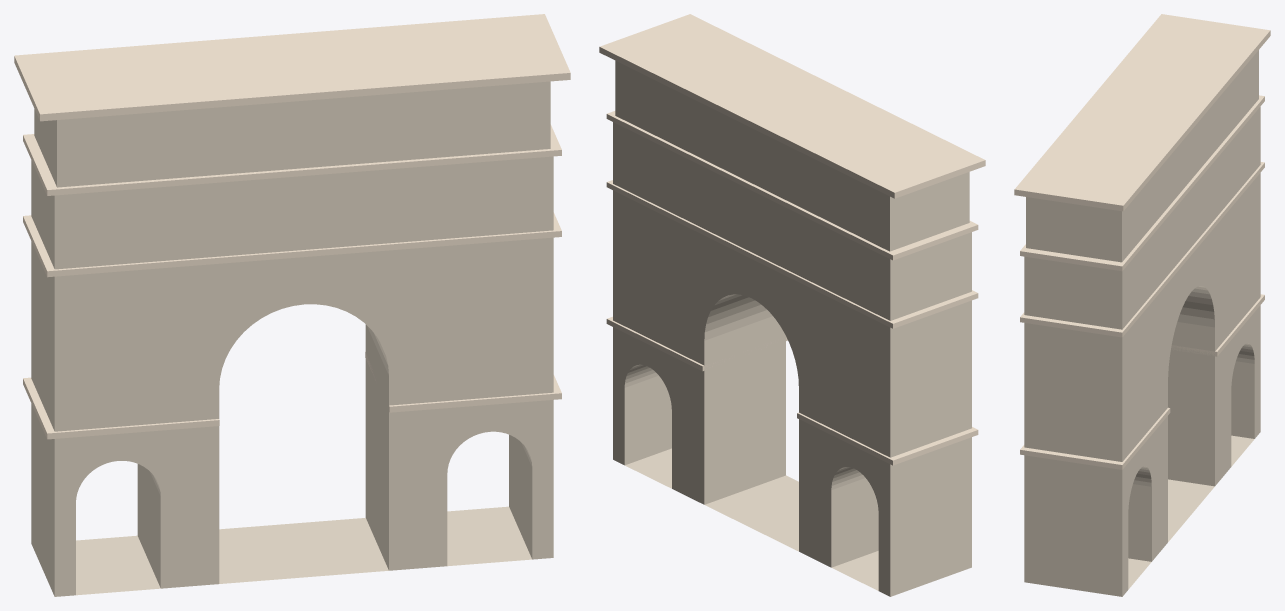
3 views of the same model, side by side, from view 1: azimuth 30°, elevation 25°; view 2: azimuth 150°, elevation 25°; view 3: azimuth 270°, elevation 25° (orthographic). The views are drawn at different scales.
Visible parts, largest first — view 1: stone, trim; view 2: stone, trim; view 3: stone, trim.
Boxes of the visible parts, <box> form: stone: <box>31,81,553,596</box>; trim: <box>14,14,570,439</box>; stone: <box>613,60,971,596</box>; trim: <box>599,14,985,465</box>; stone: <box>1024,50,1260,596</box>; trim: <box>1014,14,1270,469</box>.
Bounding box in the file's own units: 18.63 × 18 × 10.51.
